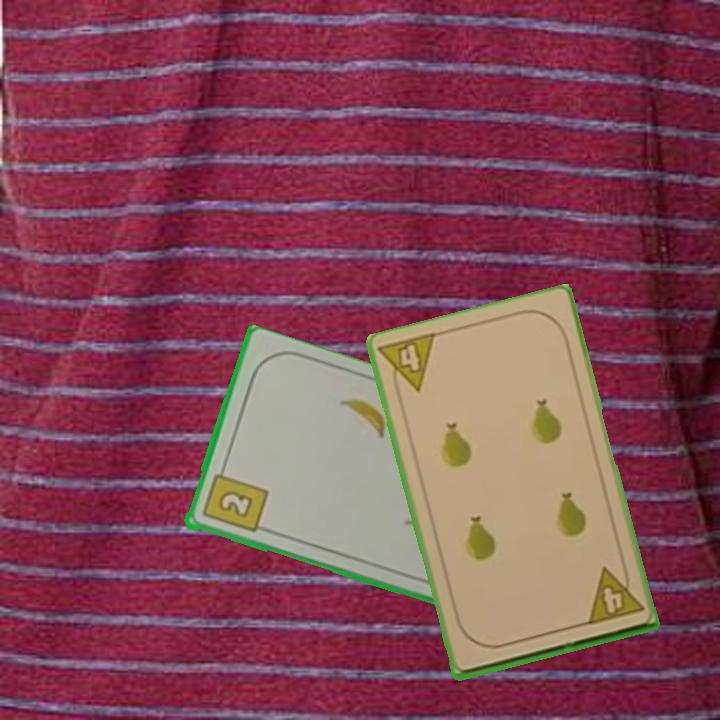2b: (198, 462, 270, 536)
4p: (375, 329, 439, 402), (582, 561, 646, 628)
